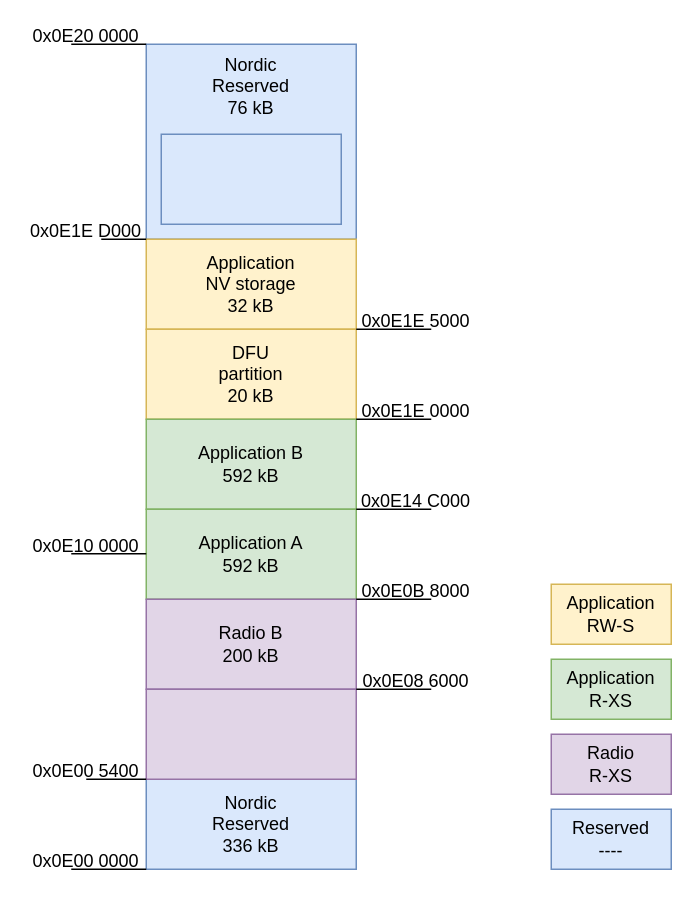
The diagram is 698 pixels wide and 897 high, and some of its shapes have lost their labels. Each missing label, with the centre of its shape:
"Radio A 200 kB" belongs at (x=250, y=733).
"SUIT storage 20 kB" belongs at (x=250, y=178).
